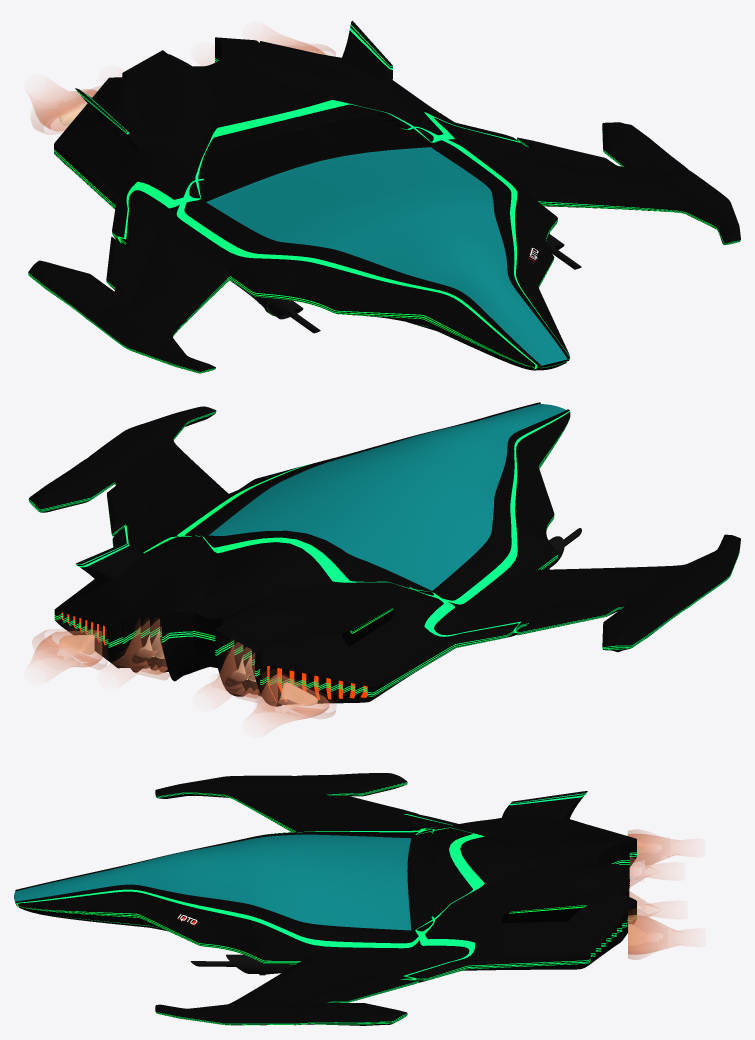
Rendered from spaceship.glb.
The picture shows the model from 3 angles, top to bottom: view 1: azimuth 30°, elevation 25°; view 2: azimuth 150°, elevation 25°; view 3: azimuth 270°, elevation 25°; orthographic projection. The views are drawn at different scales.
Visible parts, largest first — view 1: spaceship, FX_Plume_OuterR, FX_Halo_OuterR; view 2: spaceship, FX_Plume_OuterR, FX_Plume_OuterL, FX_Plume_InnerL, FX_Plume_InnerR, FX_Core_OuterL, FX_Core_OuterR; view 3: spaceship, FX_Plume_OuterL, FX_Plume_OuterR, FX_Plume_InnerR, FX_Halo_OuterL, FX_Plume_InnerL.
Boxes of the visible parts, left/top/right/bottom form: spaceship: left=28, top=20, right=740, bottom=373; FX_Plume_OuterR: left=28, top=85, right=96, bottom=131; FX_Halo_OuterR: left=31, top=85, right=101, bottom=134; spaceship: left=28, top=402, right=740, bottom=706; FX_Plume_OuterR: left=249, top=674, right=329, bottom=729; FX_Plume_OuterL: left=29, top=630, right=101, bottom=673; FX_Plume_InnerL: left=109, top=619, right=167, bottom=677; FX_Plume_InnerR: left=203, top=642, right=260, bottom=700; FX_Core_OuterL: left=59, top=634, right=94, bottom=659; FX_Core_OuterR: left=278, top=682, right=317, bottom=712; spaceship: left=14, top=773, right=636, bottom=1025; FX_Plume_OuterL: left=628, top=915, right=688, bottom=954; FX_Plume_OuterR: left=627, top=833, right=687, bottom=865; FX_Plume_InnerR: left=630, top=856, right=665, bottom=886; FX_Halo_OuterL: left=628, top=908, right=649, bottom=959; FX_Plume_InnerL: left=629, top=891, right=669, bottom=917.
Bounding box in the file's own units: 5.81 × 0.8471 × 7.2.
11 materials, 1 textured.
